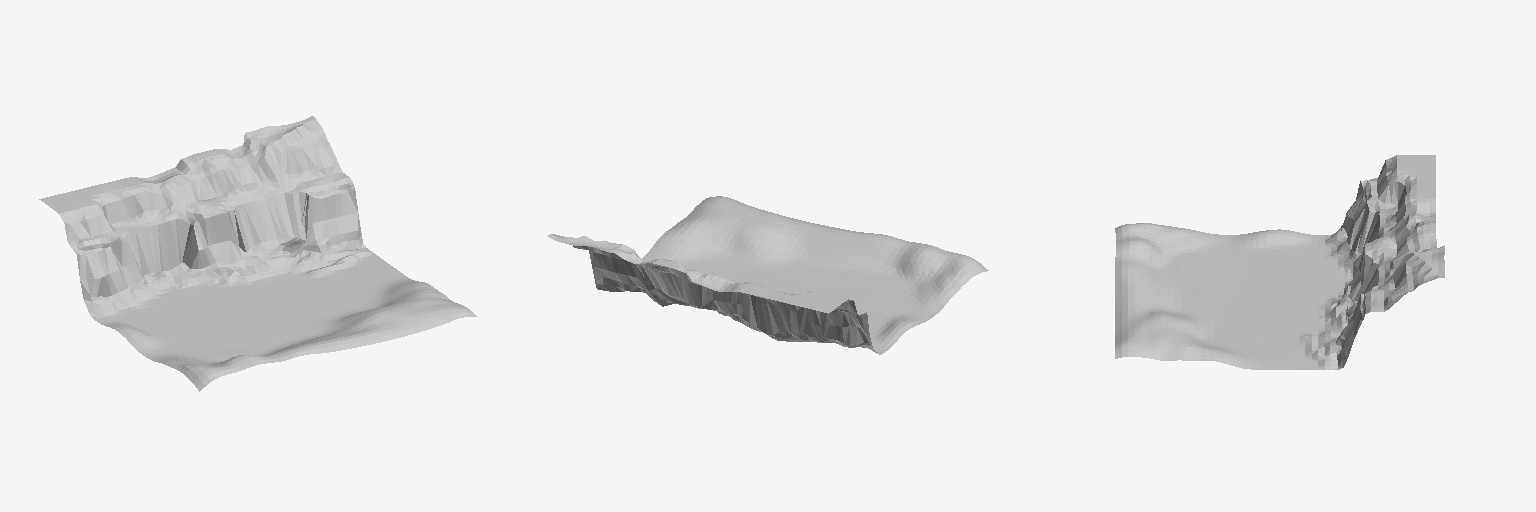
File: cliff.obj
The picture shows the model from 3 angles: view 1: azimuth 30°, elevation 25°; view 2: azimuth 150°, elevation 25°; view 3: azimuth 270°, elevation 25°; orthographic projection.
Visible parts, largest first — view 1: Grid_Grid.001; view 2: Grid_Grid.001; view 3: Grid_Grid.001.
Boxes of the visible parts, box(x1,y1,x2,y2) form: Grid_Grid.001: box(39, 116, 476, 391); Grid_Grid.001: box(547, 196, 988, 354); Grid_Grid.001: box(1115, 155, 1444, 369).
Bounding box in the file's own units: 40.13 × 12.8 × 41.1.